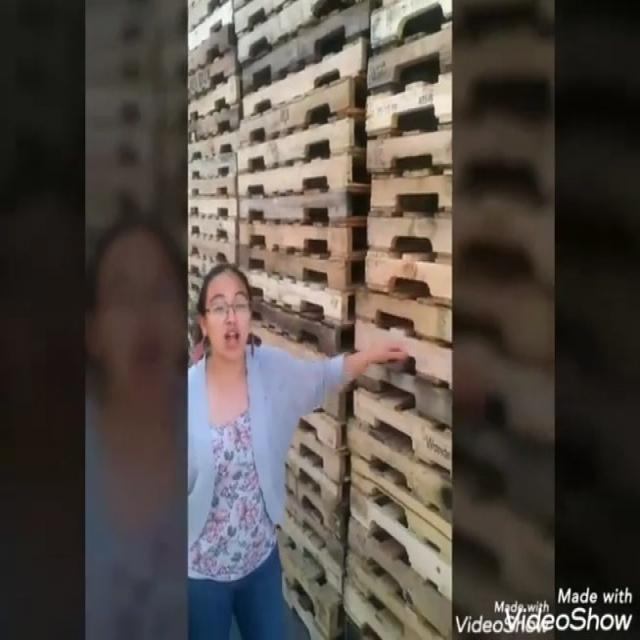Palette: (249, 0, 374, 640), (345, 0, 451, 640), (184, 0, 245, 287)
